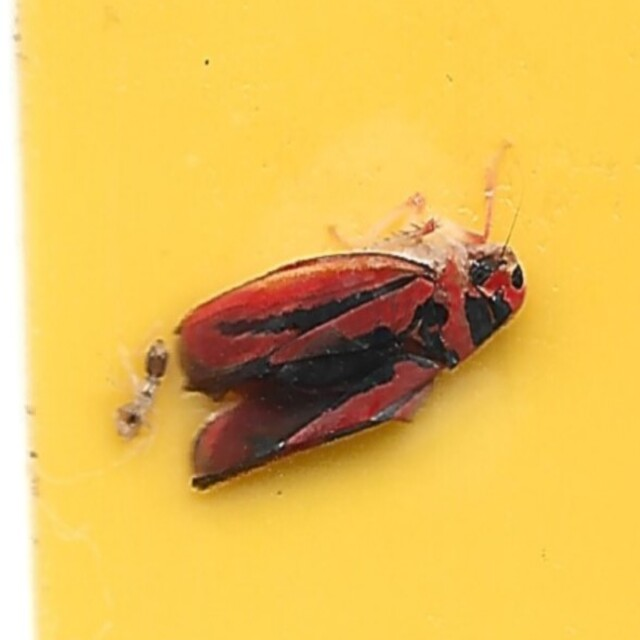Hemiptera: (170, 145, 532, 495)
Isoptera: (108, 329, 170, 443)
